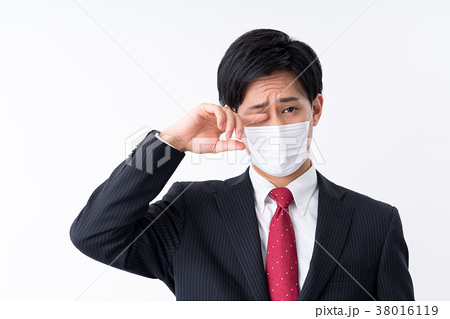mask: (239, 121, 307, 178)
